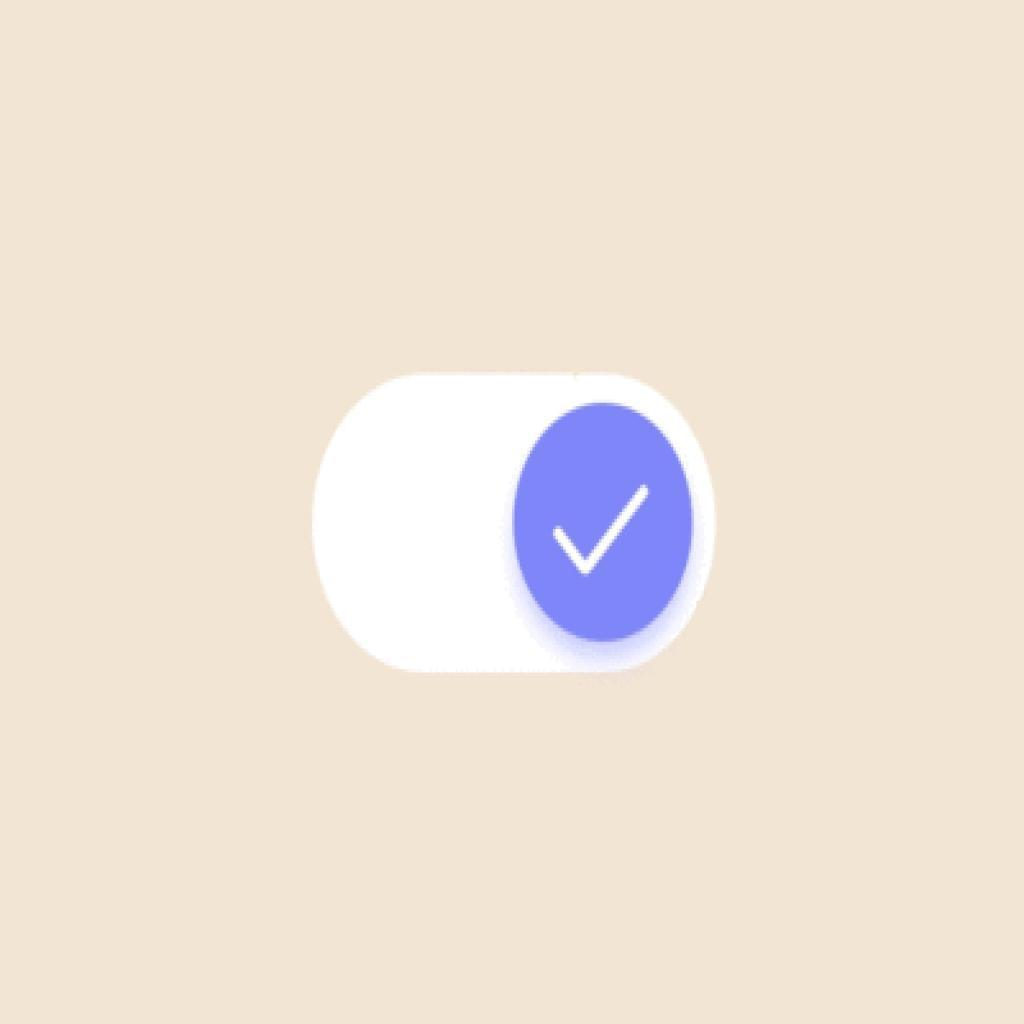switch: (311, 375, 718, 680)
